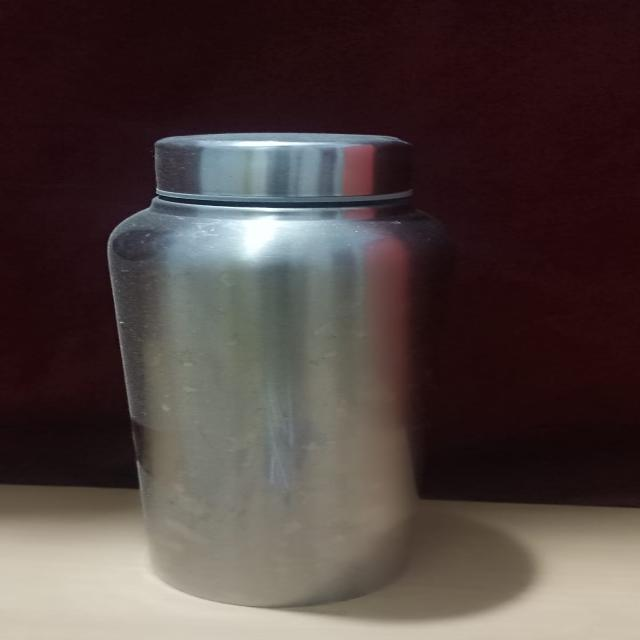bottle: (96, 118, 453, 618)
